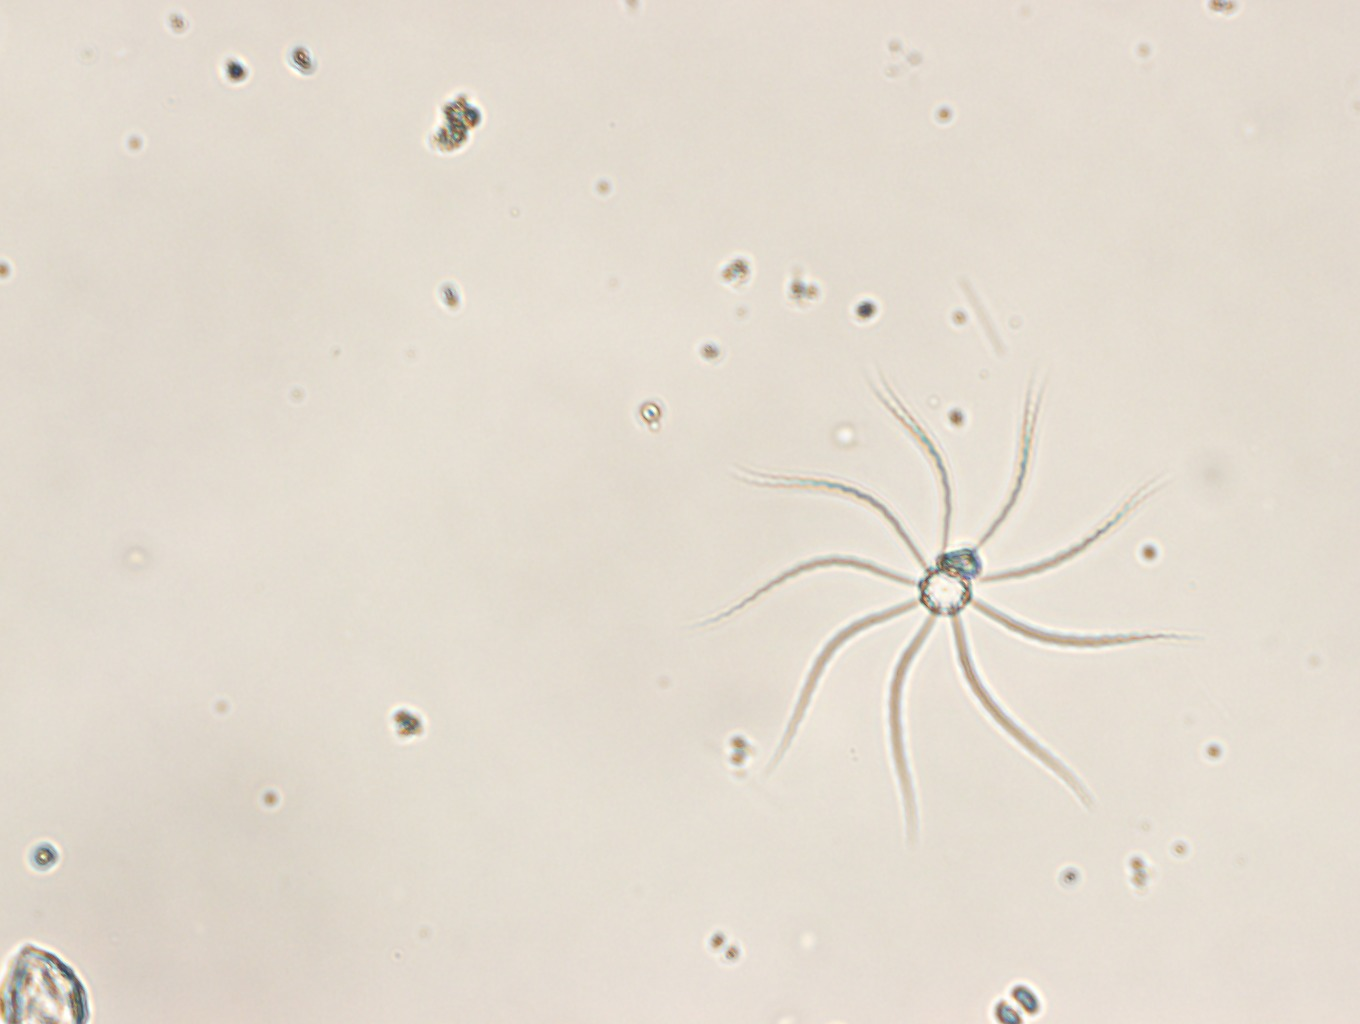bacteriastrum: (716, 368, 1193, 815)
